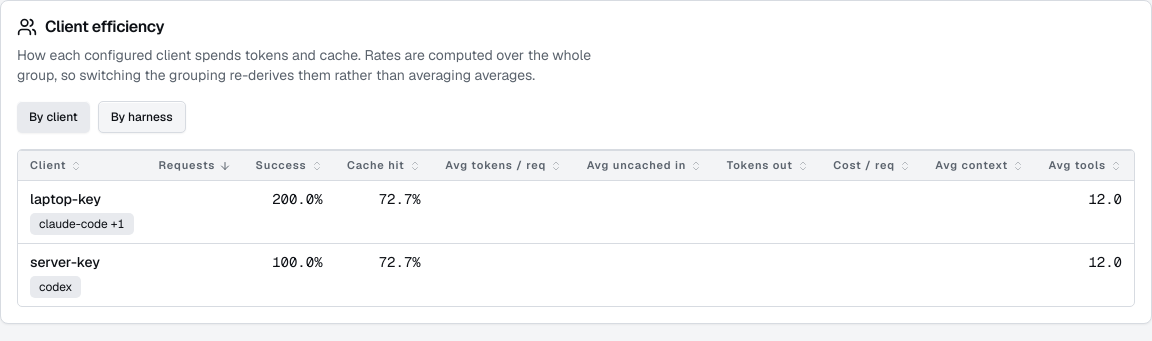
Scenario: ClientEfficiencyTable grouping toggle › regroups the same rows under harness names when toggled
The image size is (1152, 341).
Click the button "By harness".
click(142, 117)  # box [98,101,186,133]
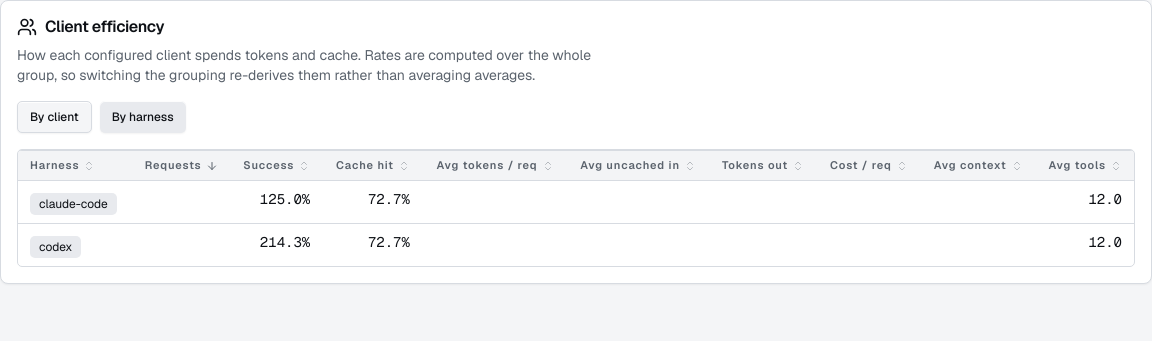
Expected: the text "codex" is shown, [30,236,81,258]
Result: the text "claude-code" is shown at [30,193,117,215]
